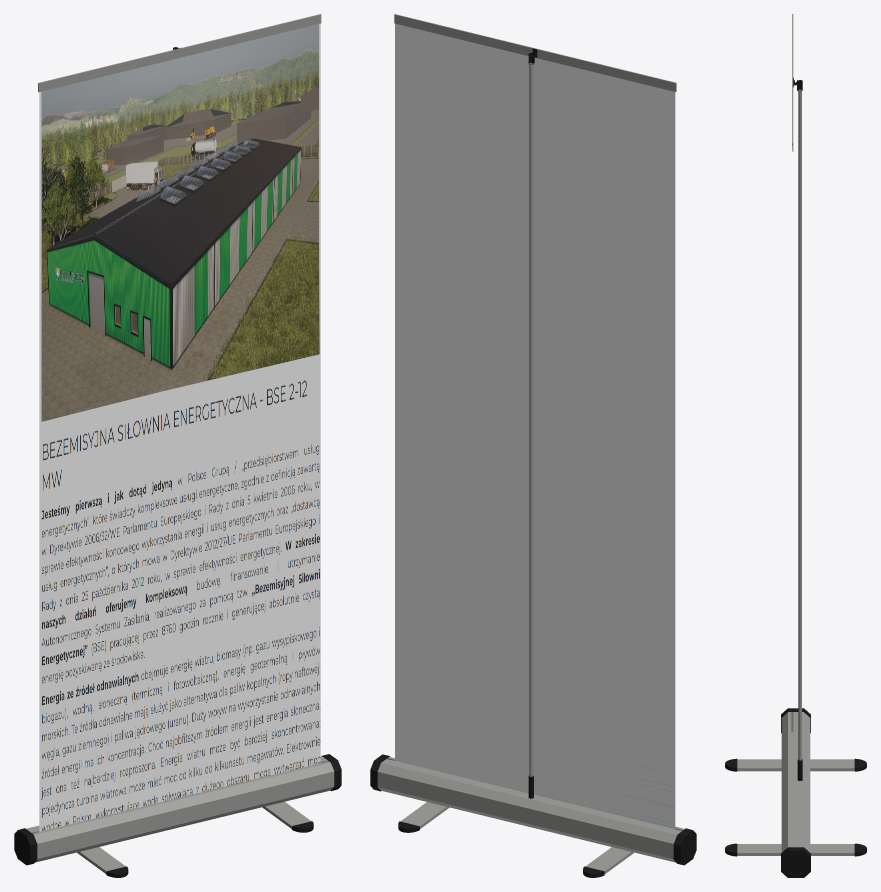
The model's file is rollupNew.glb.
3 renders of one model, left to right at view 1: azimuth 30°, elevation 25°; view 2: azimuth 150°, elevation 25°; view 3: azimuth 270°, elevation 25°, orthographic. The views are drawn at different scales.
Visible parts, largest first — view 1: Object_4, Object_3, Object_2; view 2: Object_4, Object_3, Object_2; view 3: Object_3, Object_2.
Part boxes in pixels (box(x1,y1,x2,y2)): Object_4: box(39, 23, 320, 831); Object_3: box(26, 14, 334, 873); Object_2: box(14, 47, 341, 877); Object_4: box(395, 23, 675, 828); Object_3: box(377, 14, 684, 873); Object_2: box(370, 48, 696, 877); Object_3: box(737, 14, 854, 855); Object_2: box(725, 77, 866, 877).
Bounding box in the file's own units: 0.9358 × 2.24 × 0.3934.
Materials: 3 (1 with a texture image).
